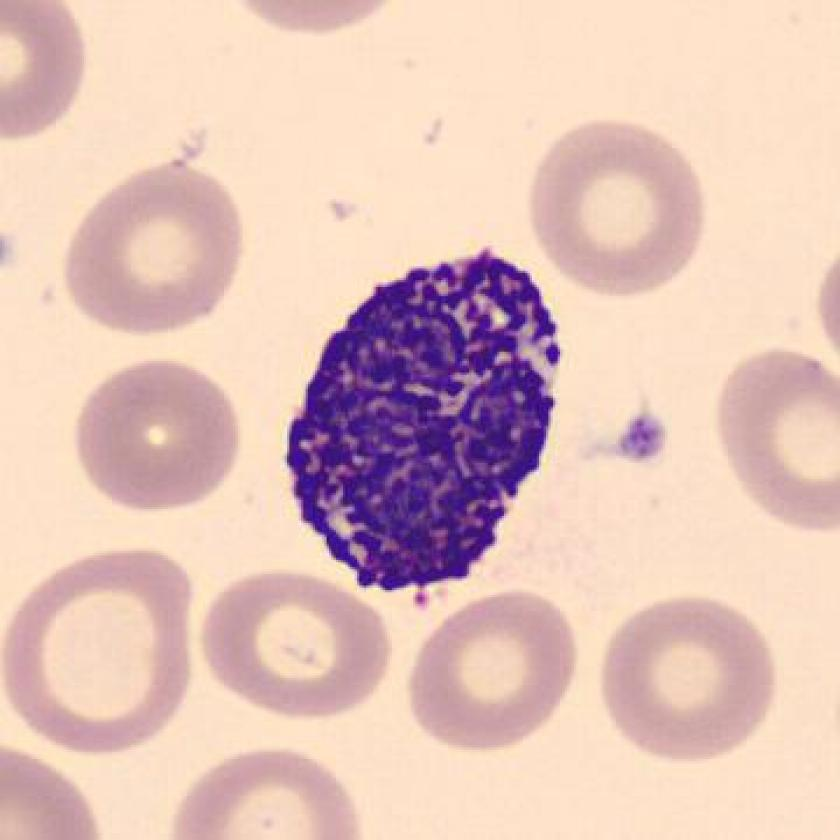basophil: (276, 235, 575, 598)
